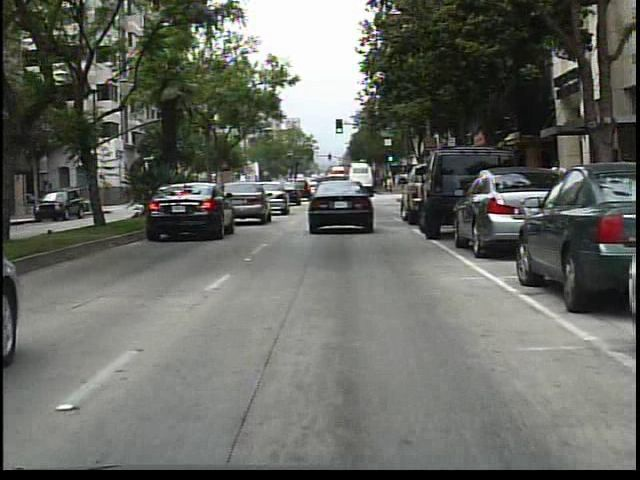person: (545, 156, 568, 216)
